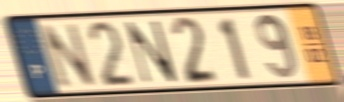1: (217, 15, 253, 83)
2: (169, 15, 220, 87), (87, 19, 138, 90)
9: (254, 12, 300, 81)
N: (37, 20, 99, 91), (123, 18, 180, 86)
